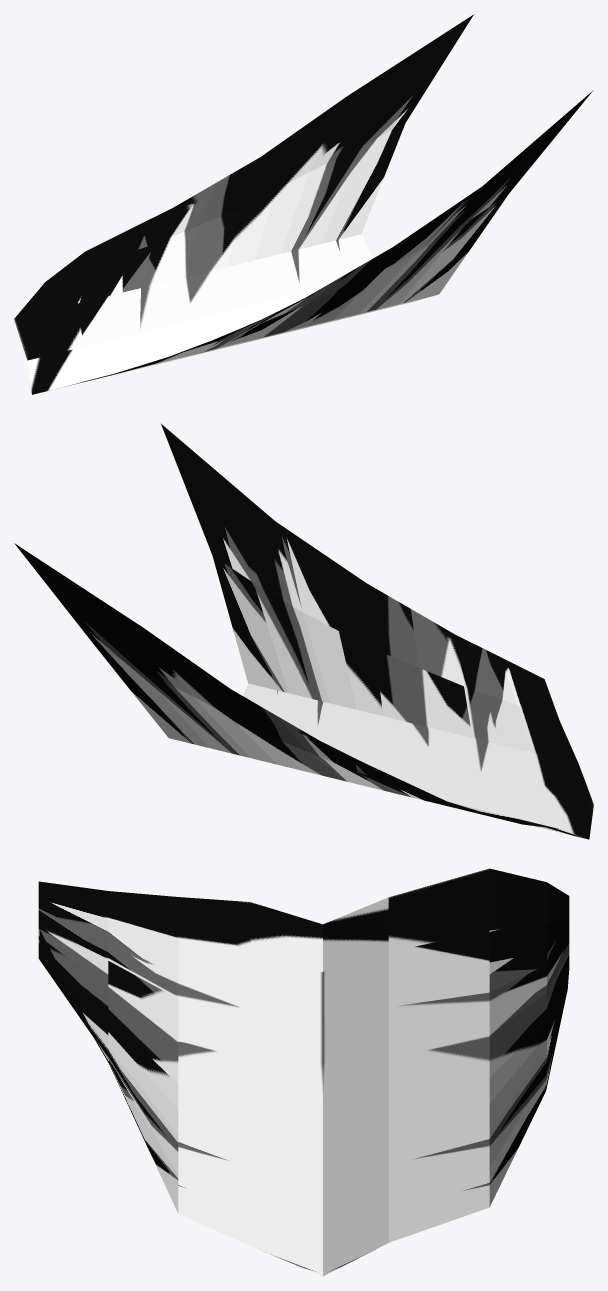
The model's file is DashBoard.fbx.
3 renders of one model, top to bottom at view 1: azimuth 30°, elevation 25°; view 2: azimuth 150°, elevation 25°; view 3: azimuth 270°, elevation 25°, orthographic. The views are drawn at different scales.
Parts seen in each view (by area): view 1: DashBoard; view 2: DashBoard; view 3: DashBoard.
Boxes of the visible parts, x1=… form: DashBoard: x1=14, y1=14, x2=593, y2=394; DashBoard: x1=14, y1=424, x2=593, y2=839; DashBoard: x1=38, y1=868, x2=569, y2=1276.
Size of the model in its own units: 1.31 by 2.88 by 1.29.
